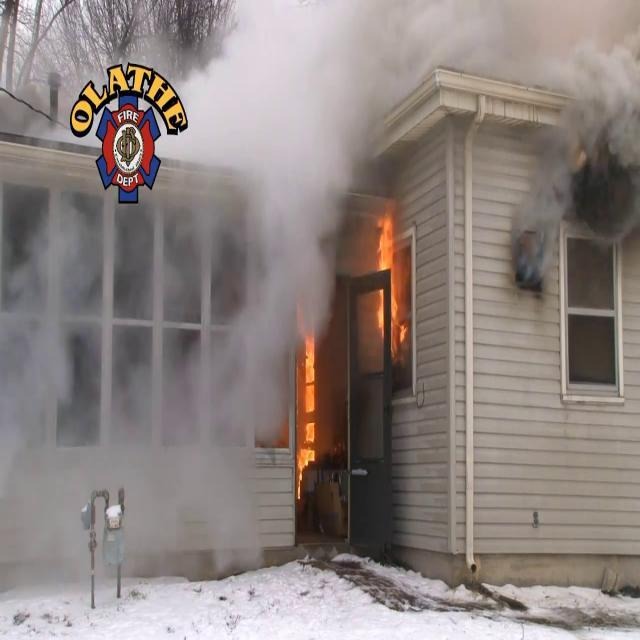Fire: (374, 204, 404, 352), (295, 322, 321, 484)
Smoke: (0, 172, 268, 581), (176, 0, 633, 149), (513, 0, 640, 287)
